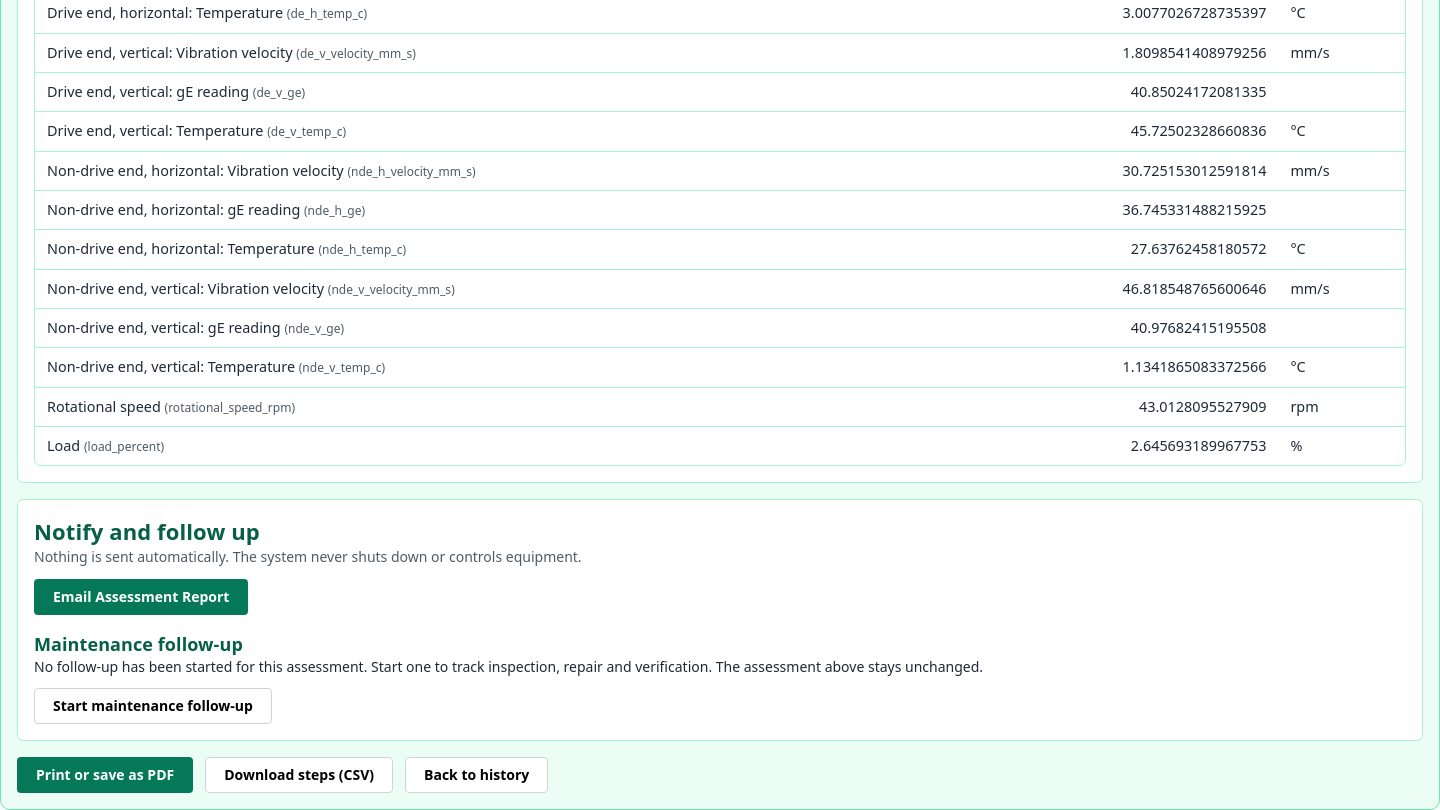
Email dialog › disables sending and explains when e-mail is not configured
(page scrolled)
Click the button "Email Assessment Report". click: (141, 597)
box: [34, 579, 248, 615]
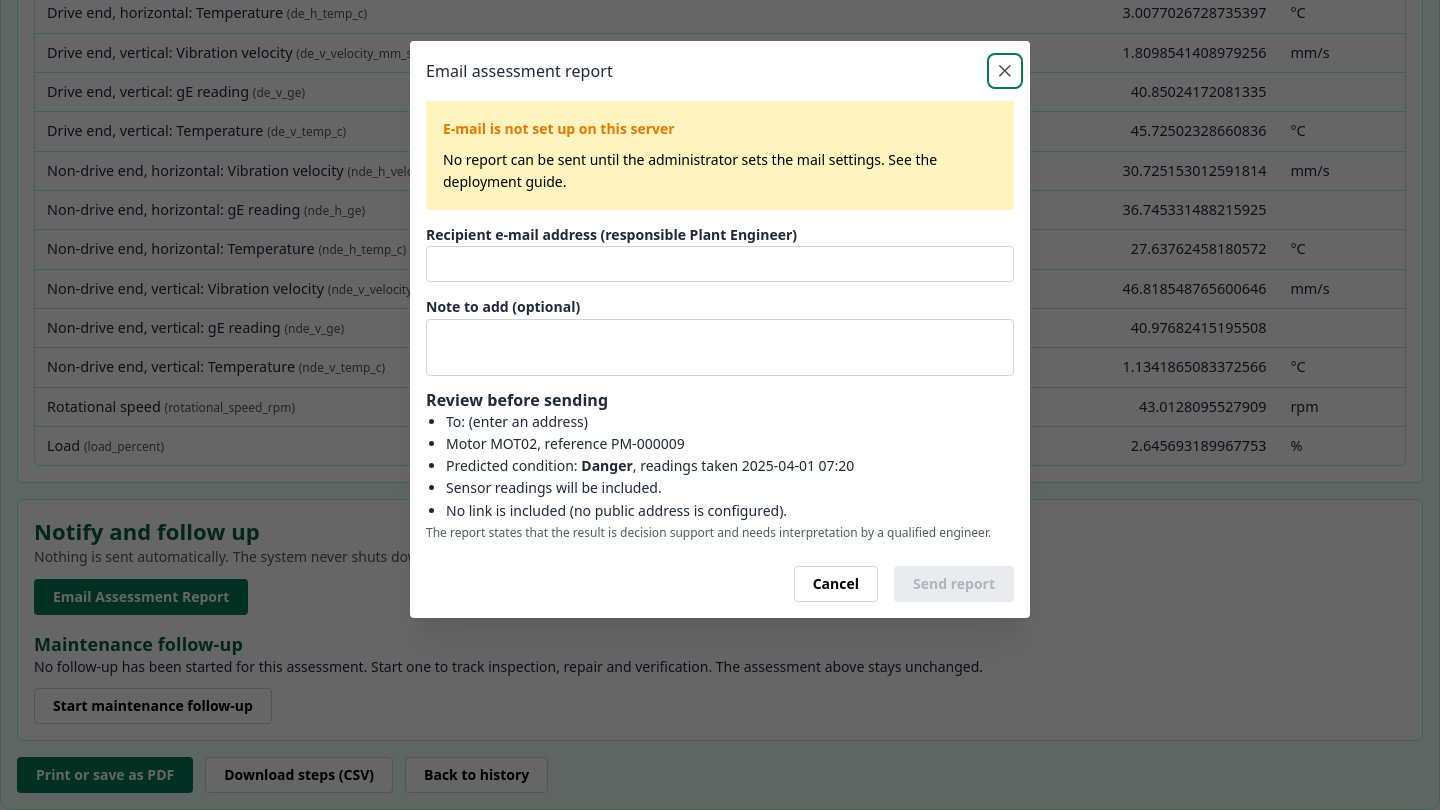
Now the text "E-mail is not set up on this server" is shown, box [443, 118, 675, 139]
Now the button "Send report" is disabled, box [894, 566, 1014, 602]
